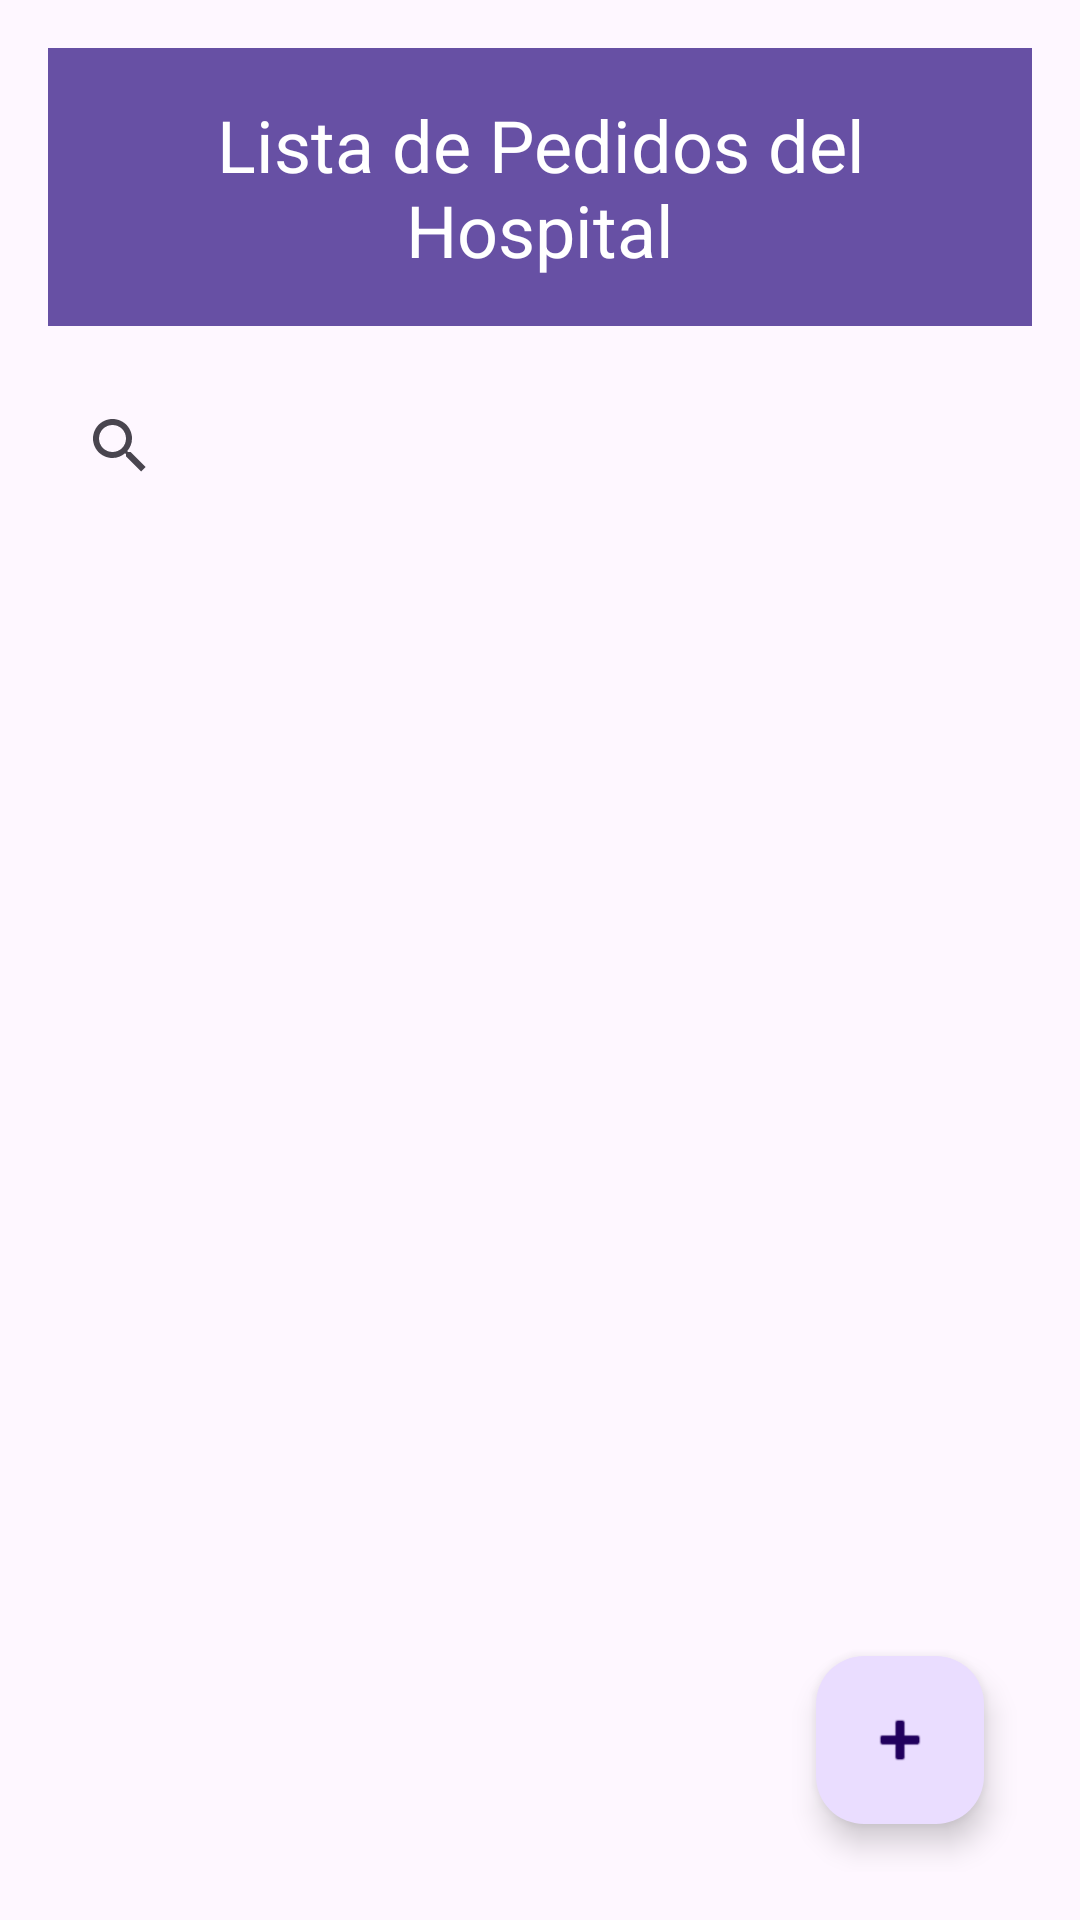

Screen size 1080 x 1920. Icon name, then its box in pixels as (x1, y1, x2, y2):
Agregar pedido: (816, 1656, 984, 1824)
